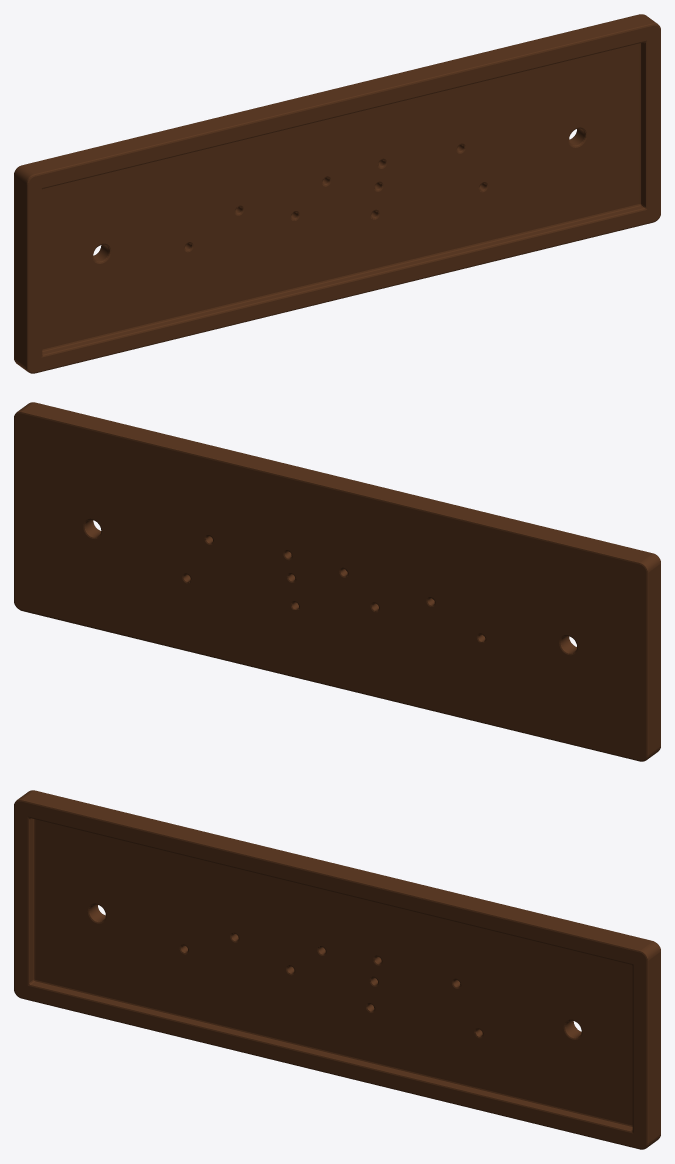
The picture shows the model from 3 angles, top to bottom: view 1: azimuth 30°, elevation 25°; view 2: azimuth 150°, elevation 25°; view 3: azimuth 330°, elevation 25°; orthographic projection.
Parts seen in each view (by area): view 1: 1-0_A2; view 2: 1-0_A2; view 3: 1-0_A2.
Part boxes in pixels (bbox=[...]): 1-0_A2: bbox=[14, 14, 660, 373]; 1-0_A2: bbox=[14, 402, 660, 761]; 1-0_A2: bbox=[14, 790, 660, 1149].
Size of the model in its own units: 122 by 36.58 by 4.57.
